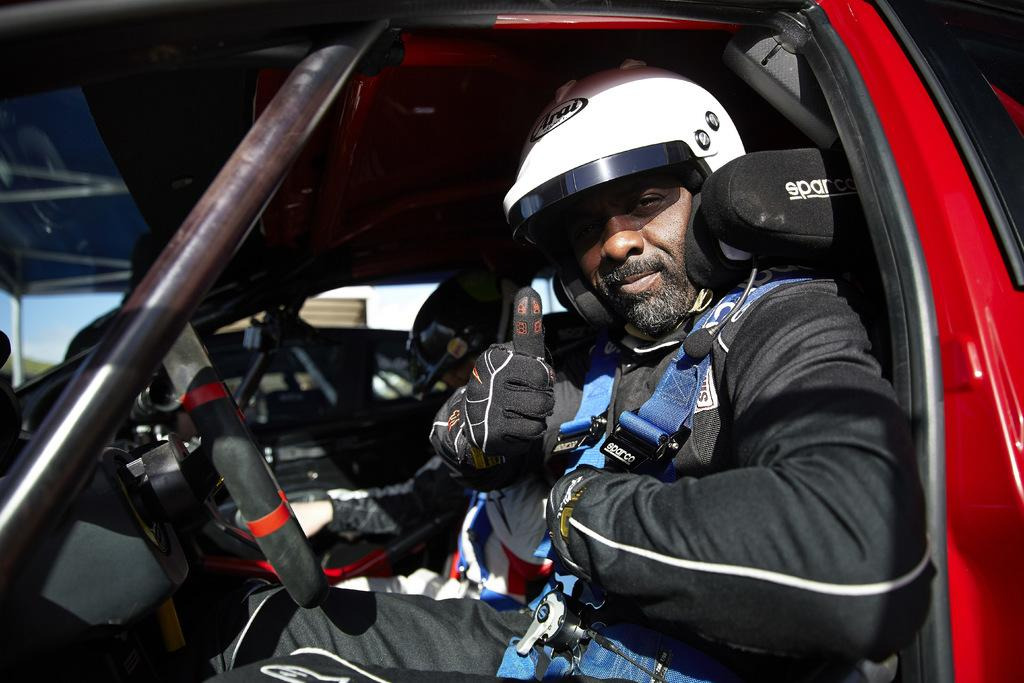helmet: (503, 67, 760, 325)
